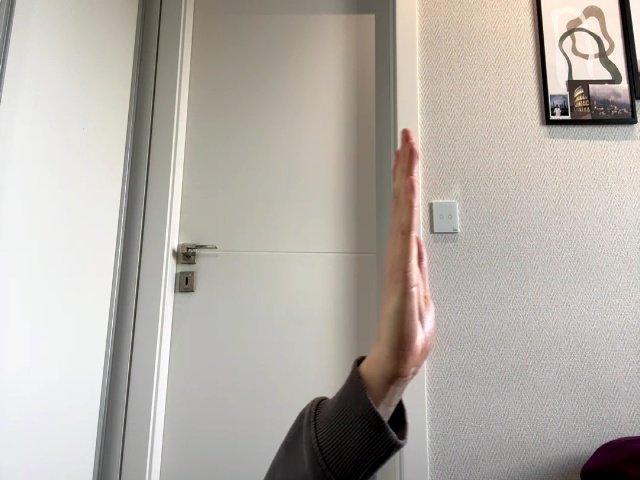SZ: (382, 129, 434, 375)
